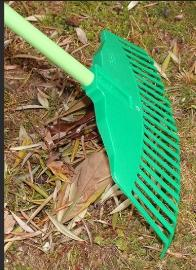RATEAU: (5, 0, 196, 263)
